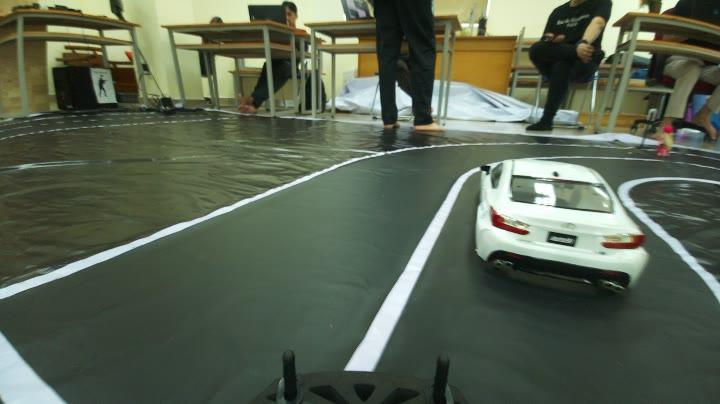car: (467, 146, 644, 301)
